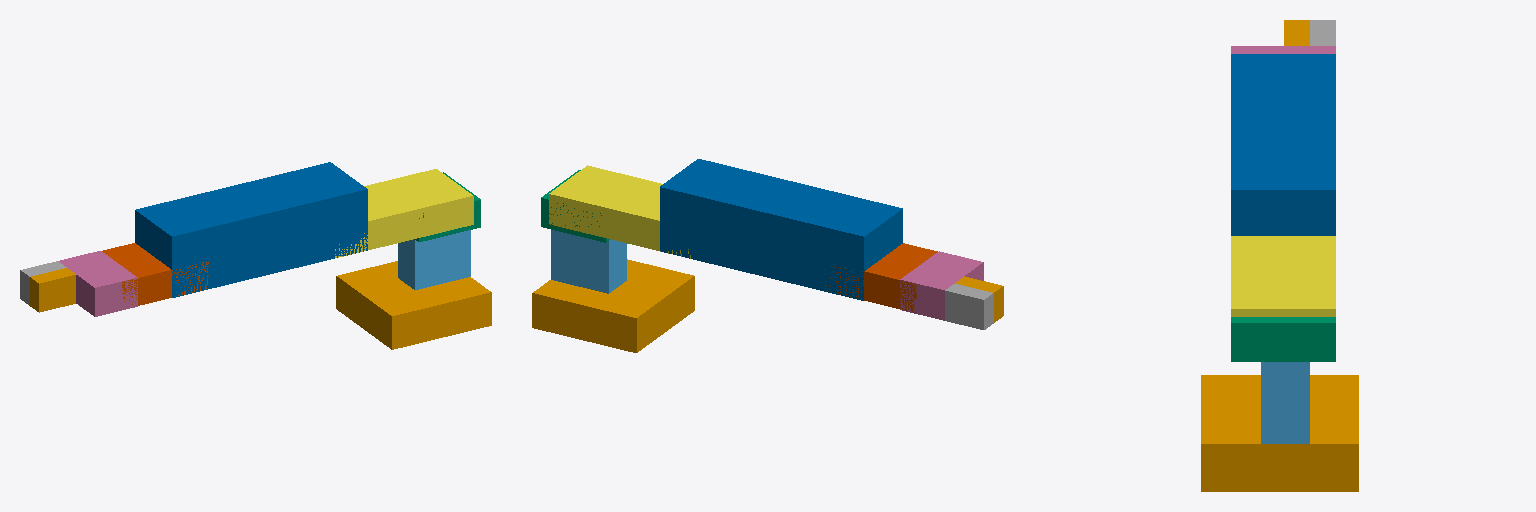
URDF robot description (arm):
<?xml version="1.0"?>
<robot name="arm">

  <link name="base_link">
    <visual>
      <geometry>
        <box size="0.93 0.90 0.30"/>
      </geometry> 
      <origin rpy="0 0 0" xyz="0 0 0"/>
    </visual>
    <collision>
      <geometry>
        <box size="0.93 0.90 0.30"/>
      </geometry> 
      <origin rpy="0 0 0" xyz="0 0 0"/>
    </collision>
  </link>

  <link name="base_up">
    <visual>
      <geometry>
        <box size="0.52 0.28 0.51"/>
      </geometry>
      <origin rpy="0 0 0" xyz="0 0 0"/>
    </visual>
    <collision>
      <geometry>
        <box size="0.52 0.28 0.51"/>
      </geometry>
      <origin rpy="0 0 0" xyz="0 0 0"/>
    </collision>
  </link>

  <joint name="baseup_link" type="fixed">
    <parent link="base_link"/>
    <child link="base_up"/>
    <origin xyz="0.205 0.03 0.405"/>
  </joint>

  <link name="servo_rotz">
    <visual>
      <geometry>
        <box size="0.58 0.60 0.25"/>
      </geometry>
      <origin rpy="0 0 0" xyz="-0.14 0 0"/>
    </visual>
    <collision>
      <geometry>
        <box size="0.58 0.60 0.25"/>
      </geometry>
      <origin rpy="0 0 0" xyz="-0.14 0 0"/>
    </collision>
  </link>

  <joint name="servo_link2" type="revolute">
    <axis xyz="0 0 1"/>
    <limit effort="1000.0" lower="-1.57" upper="1.57" velocity="0.5"/>
    <parent link="base_up"/>
    <child link="servo_rotz"/>
    <origin xyz="0.11 -0.01 0.38"/>
  </joint>

  <link name="connection_servo12">
    <visual>
      <geometry>
        <box size="1.3 0.6 0.26"/>
      </geometry>
      <origin rpy="0 0 0" xyz="-0.52 0 0"/>
    </visual>
    <collision>
      <geometry>
        <box size="1.3 0.6 0.26"/>
      </geometry>
      <origin rpy="0 0 0" xyz="-0.52 0 0"/>
    </collision>
  </link>

  <joint name="con_up_1" type="revolute">
    <axis xyz="0 1 0"/>
    <limit effort="1000.0" lower="-1.57" upper="1.57" velocity="0.5"/>
    <parent link="servo_rotz"/>
    <child link="connection_servo12"/>
    <origin xyz="-0.05 0 0.045"/>
  </joint>


  <link name="connection_servo23">
    <visual>
      <geometry>
        <box size="1.83 0.60 0.55"/>
      </geometry>
      <origin rpy="0 0 0" xyz="-0.735 0 0.145"/>
    </visual>
    <collision>
      <geometry>
        <box size="1.83 0.60 0.55"/>
      </geometry>
      <origin rpy="0 0 0" xyz="-0.735 0 0.145"/>
    </collision>
  </link>

  <joint name="con_up_2" type="revolute">
    <axis xyz="0 1 0"/>
    <limit effort="1000.0" lower="-1.57" upper="1.57" velocity="0.5"/>
    <parent link="connection_servo12"/>
    <child link="connection_servo23"/>
    <origin xyz=" -1.04 0 0"/>
  </joint>

  <link name="servo_arm_rotation">
    <visual>
      <geometry>
        <box size="0.82 0.60 0.25 "/>
      </geometry>
      <origin rpy="0 0 0" xyz="-0.28 0 0"/>
    </visual>
    <collision>
      <geometry>
        <box size="0.82 0.60 0.25 "/>
      </geometry>
      <origin rpy="0 0 0" xyz="-0.28 0 0"/>
    </collision>
  </link>

 <joint name="con_up_3" type="revolute">
    <axis xyz="0 1 0"/>
    <limit effort="1000.0" lower="-1.57" upper="1.57" velocity="0.5"/>
    <parent link="connection_servo23"/>
    <child link="servo_arm_rotation"/>
    <origin xyz="-1.43 0 0"/>
  </joint>

  <link name="gripper_b">
    <visual>
      <geometry>
        <box size="0.4 0.6 0.26"/>
      </geometry>
      <origin rpy="0 0 0" xyz="0 0 0"/>
    </visual>
    <collision>
      <geometry>
        <box size="0.4 0.6 0.26"/>
      </geometry>
      <origin rpy="0 0 0" xyz="0 0 0"/>
    </collision>
  </link>

 <joint name="rotation_grip" type="revolute">
    <axis xyz="1 0 0"/>
    <limit effort="1000.0" lower="0" upper="3.14" velocity="0.5"/>
    <parent link="servo_arm_rotation"/>
    <child link="gripper_b"/>
    <origin xyz="-0.74 0 0"/>
  </joint>

  <link name="left_g">
    <visual>
      <geometry>
        <box size="0.35 0.15 0.26"/>
      </geometry>
      <origin rpy="0 0 0" xyz="0 0 0"/>
    </visual>
    <collision>
      <geometry>
        <box size="0.35 0.15 0.26"/>
      </geometry>
      <origin rpy="0 0 0" xyz="0 0 0"/>
    </collision>
  </link>

 <joint name="fix_left" type="fixed">
    <parent link="gripper_b"/>
    <child link="left_g"/>
    <origin xyz="-0.375 0.225 0"/>
  </joint>

  <link name="right_g">
    <visual>
      <geometry>
        <box size="0.35 0.15 0.26"/>
      </geometry>
      <origin rpy="0 0 0" xyz="0 0 0"/>
    </visual>
    <collision>
      <geometry>
        <box size="0.35 0.15 0.26"/>
      </geometry>
      <origin rpy="0 0 0" xyz="0 0 0"/>
    </collision>
  </link>

 <joint name="plan_move" type="prismatic">
    <axis xyz="0 1 0"/>
    <limit effort="1000.0" lower="0" upper="-0.55" velocity="0.5"/>
    <parent link="left_g"/>
    <child link="right_g"/>
    <origin xyz="0 -0.15 0"/>
  </joint>

<!-- -->
</robot>

--- Render facts (derived) ---
The picture shows the robot from 3 angles, left to right: view 1: azimuth 30°, elevation 25°; view 2: azimuth 150°, elevation 25°; view 3: azimuth 270°, elevation 25°; orthographic projection.
Model arm with 9 links and 8 joints (5 revolute, 1 prismatic, 2 fixed), rooted at base_link, posed every joint at zero.
Visible links, largest first — view 1: connection_servo23, base_link, connection_servo12, base_up, gripper_b, servo_arm_rotation, right_g, left_g, servo_rotz; view 2: connection_servo23, base_link, connection_servo12, base_up, gripper_b, servo_arm_rotation, left_g, right_g, servo_rotz; view 3: connection_servo23, base_link, connection_servo12, servo_rotz, base_up, gripper_b, left_g, right_g.
Link boxes in pixels (box(x1,y1,x2,y2)): connection_servo23: box(135, 162, 367, 297); base_link: box(336, 261, 491, 349); connection_servo12: box(335, 169, 473, 257); base_up: box(398, 230, 470, 289); gripper_b: box(59, 251, 137, 316); servo_arm_rotation: box(102, 243, 208, 308); right_g: box(30, 268, 75, 312); left_g: box(20, 261, 66, 305); servo_rotz: box(415, 172, 480, 241); connection_servo23: box(660, 159, 902, 300); base_link: box(532, 259, 694, 352); connection_servo12: box(549, 165, 690, 258); base_up: box(551, 230, 626, 293); gripper_b: box(900, 251, 983, 320); servo_arm_rotation: box(825, 243, 937, 312); left_g: box(945, 284, 993, 329); right_g: box(955, 276, 1003, 322); servo_rotz: box(541, 170, 609, 242); connection_servo23: box(1231, 54, 1335, 235); base_link: box(1201, 375, 1358, 491); connection_servo12: box(1231, 236, 1335, 316); servo_rotz: box(1231, 317, 1335, 361); base_up: box(1261, 362, 1309, 443); gripper_b: box(1231, 46, 1335, 53); left_g: box(1310, 20, 1335, 45); right_g: box(1284, 20, 1309, 45).
Size in the robot's own frame: 3.96 by 0.9 by 1.4 metres.
Geometry: primitives only (box / cylinder / sphere), no mesh files.
